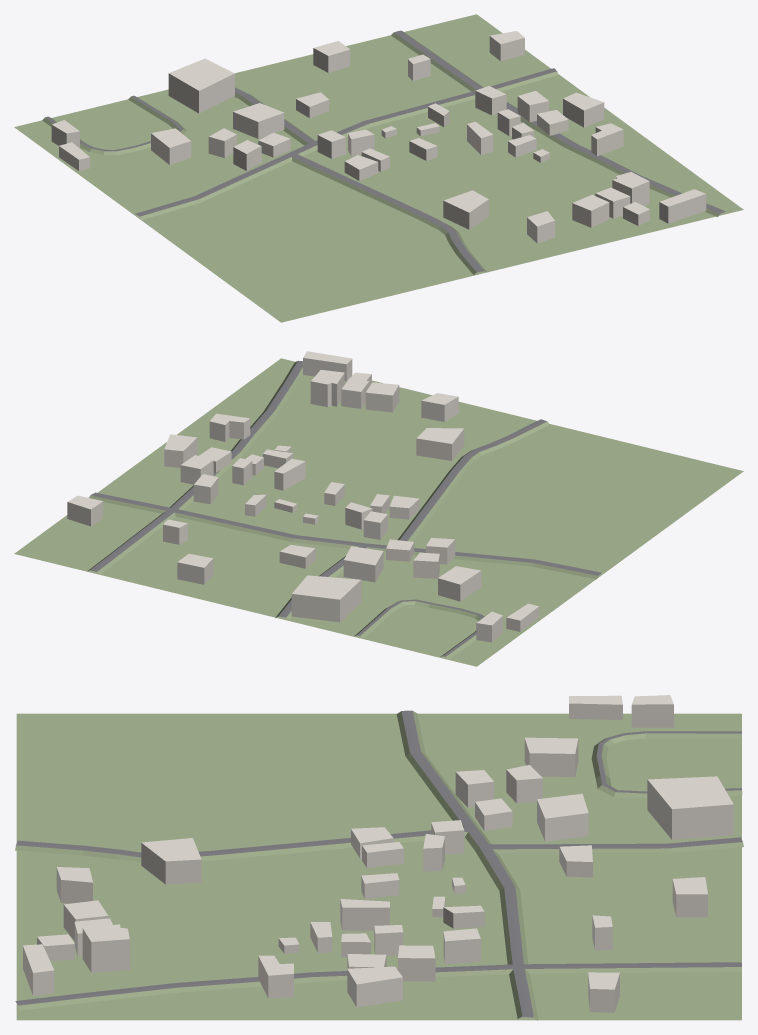
Rendered from dhamrai_chunk_x-2_z-2.glb.
3 renders of one model, top to bottom at view 1: azimuth 30°, elevation 25°; view 2: azimuth 150°, elevation 25°; view 3: azimuth 270°, elevation 25°, orthographic. The views are drawn at different scales.
Visible parts, largest first — view 1: terrain, buildings, roads, embankments; view 2: terrain, buildings, roads, embankments; view 3: terrain, buildings, embankments, roads.
Part boxes in pixels (left/top/right/bottom): terrain: left=14, top=14, right=743, bottom=322; buildings: left=51, top=31, right=706, bottom=243; roads: left=45, top=30, right=725, bottom=272; embankments: left=42, top=31, right=719, bottom=274; terrain: left=14, top=358, right=743, bottom=666; buildings: left=67, top=351, right=539, bottom=642; roads: left=90, top=360, right=601, bottom=656; embankments: left=87, top=361, right=598, bottom=659; terrain: left=16, top=713, right=741, bottom=1020; buildings: left=23, top=695, right=733, bottom=1012; embankments: left=15, top=711, right=743, bottom=1020; roads: left=15, top=710, right=742, bottom=1017.
Size of the model in its own units: 257 by 13.23 by 258.
